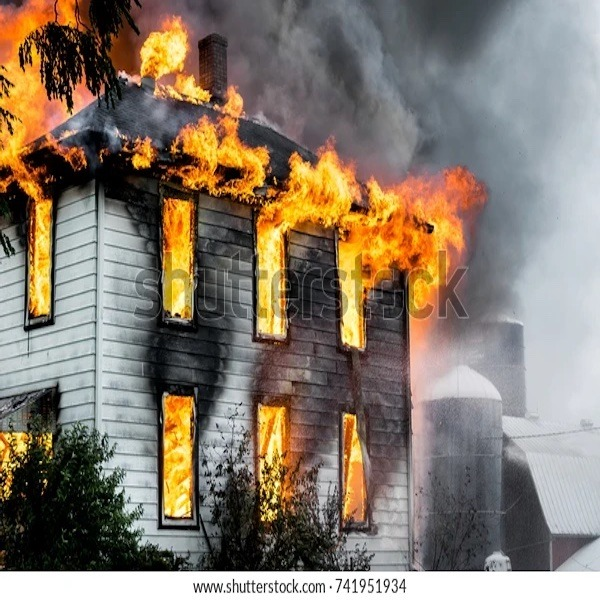fire: (306, 75, 533, 254), (183, 116, 273, 199), (252, 156, 306, 268), (2, 17, 41, 167), (140, 2, 202, 95), (20, 178, 58, 325), (159, 393, 200, 526), (342, 411, 370, 530), (161, 186, 195, 269), (259, 401, 292, 466)
